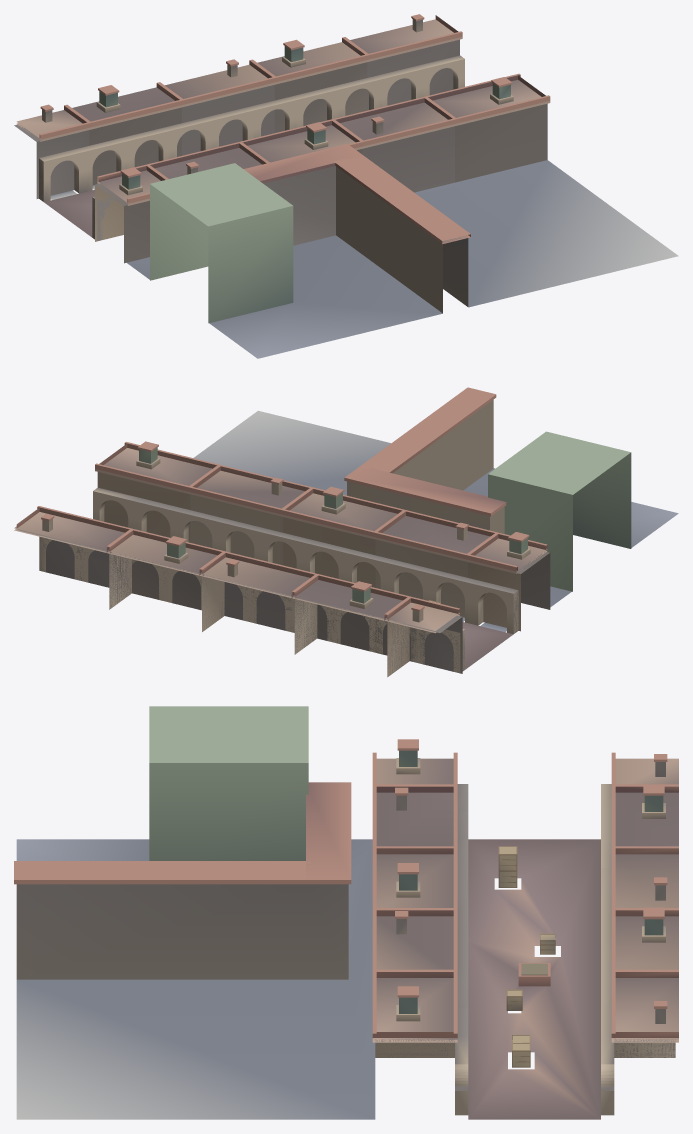
3 views of the same model, one above another, from view 1: azimuth 30°, elevation 25°; view 2: azimuth 150°, elevation 25°; view 3: azimuth 270°, elevation 25° (orthographic). The views are drawn at different scales.
Visible parts, largest first — view 1: t; view 2: t; view 3: t.
Part boxes in pixels (x1=…): t: x1=14, y1=14, x2=678, y2=358; t: x1=14, y1=387, x2=678, y2=677; t: x1=14, y1=706, x2=678, y2=1119.
Bounding box in the file's own units: 50.49 × 11 × 50.08.
